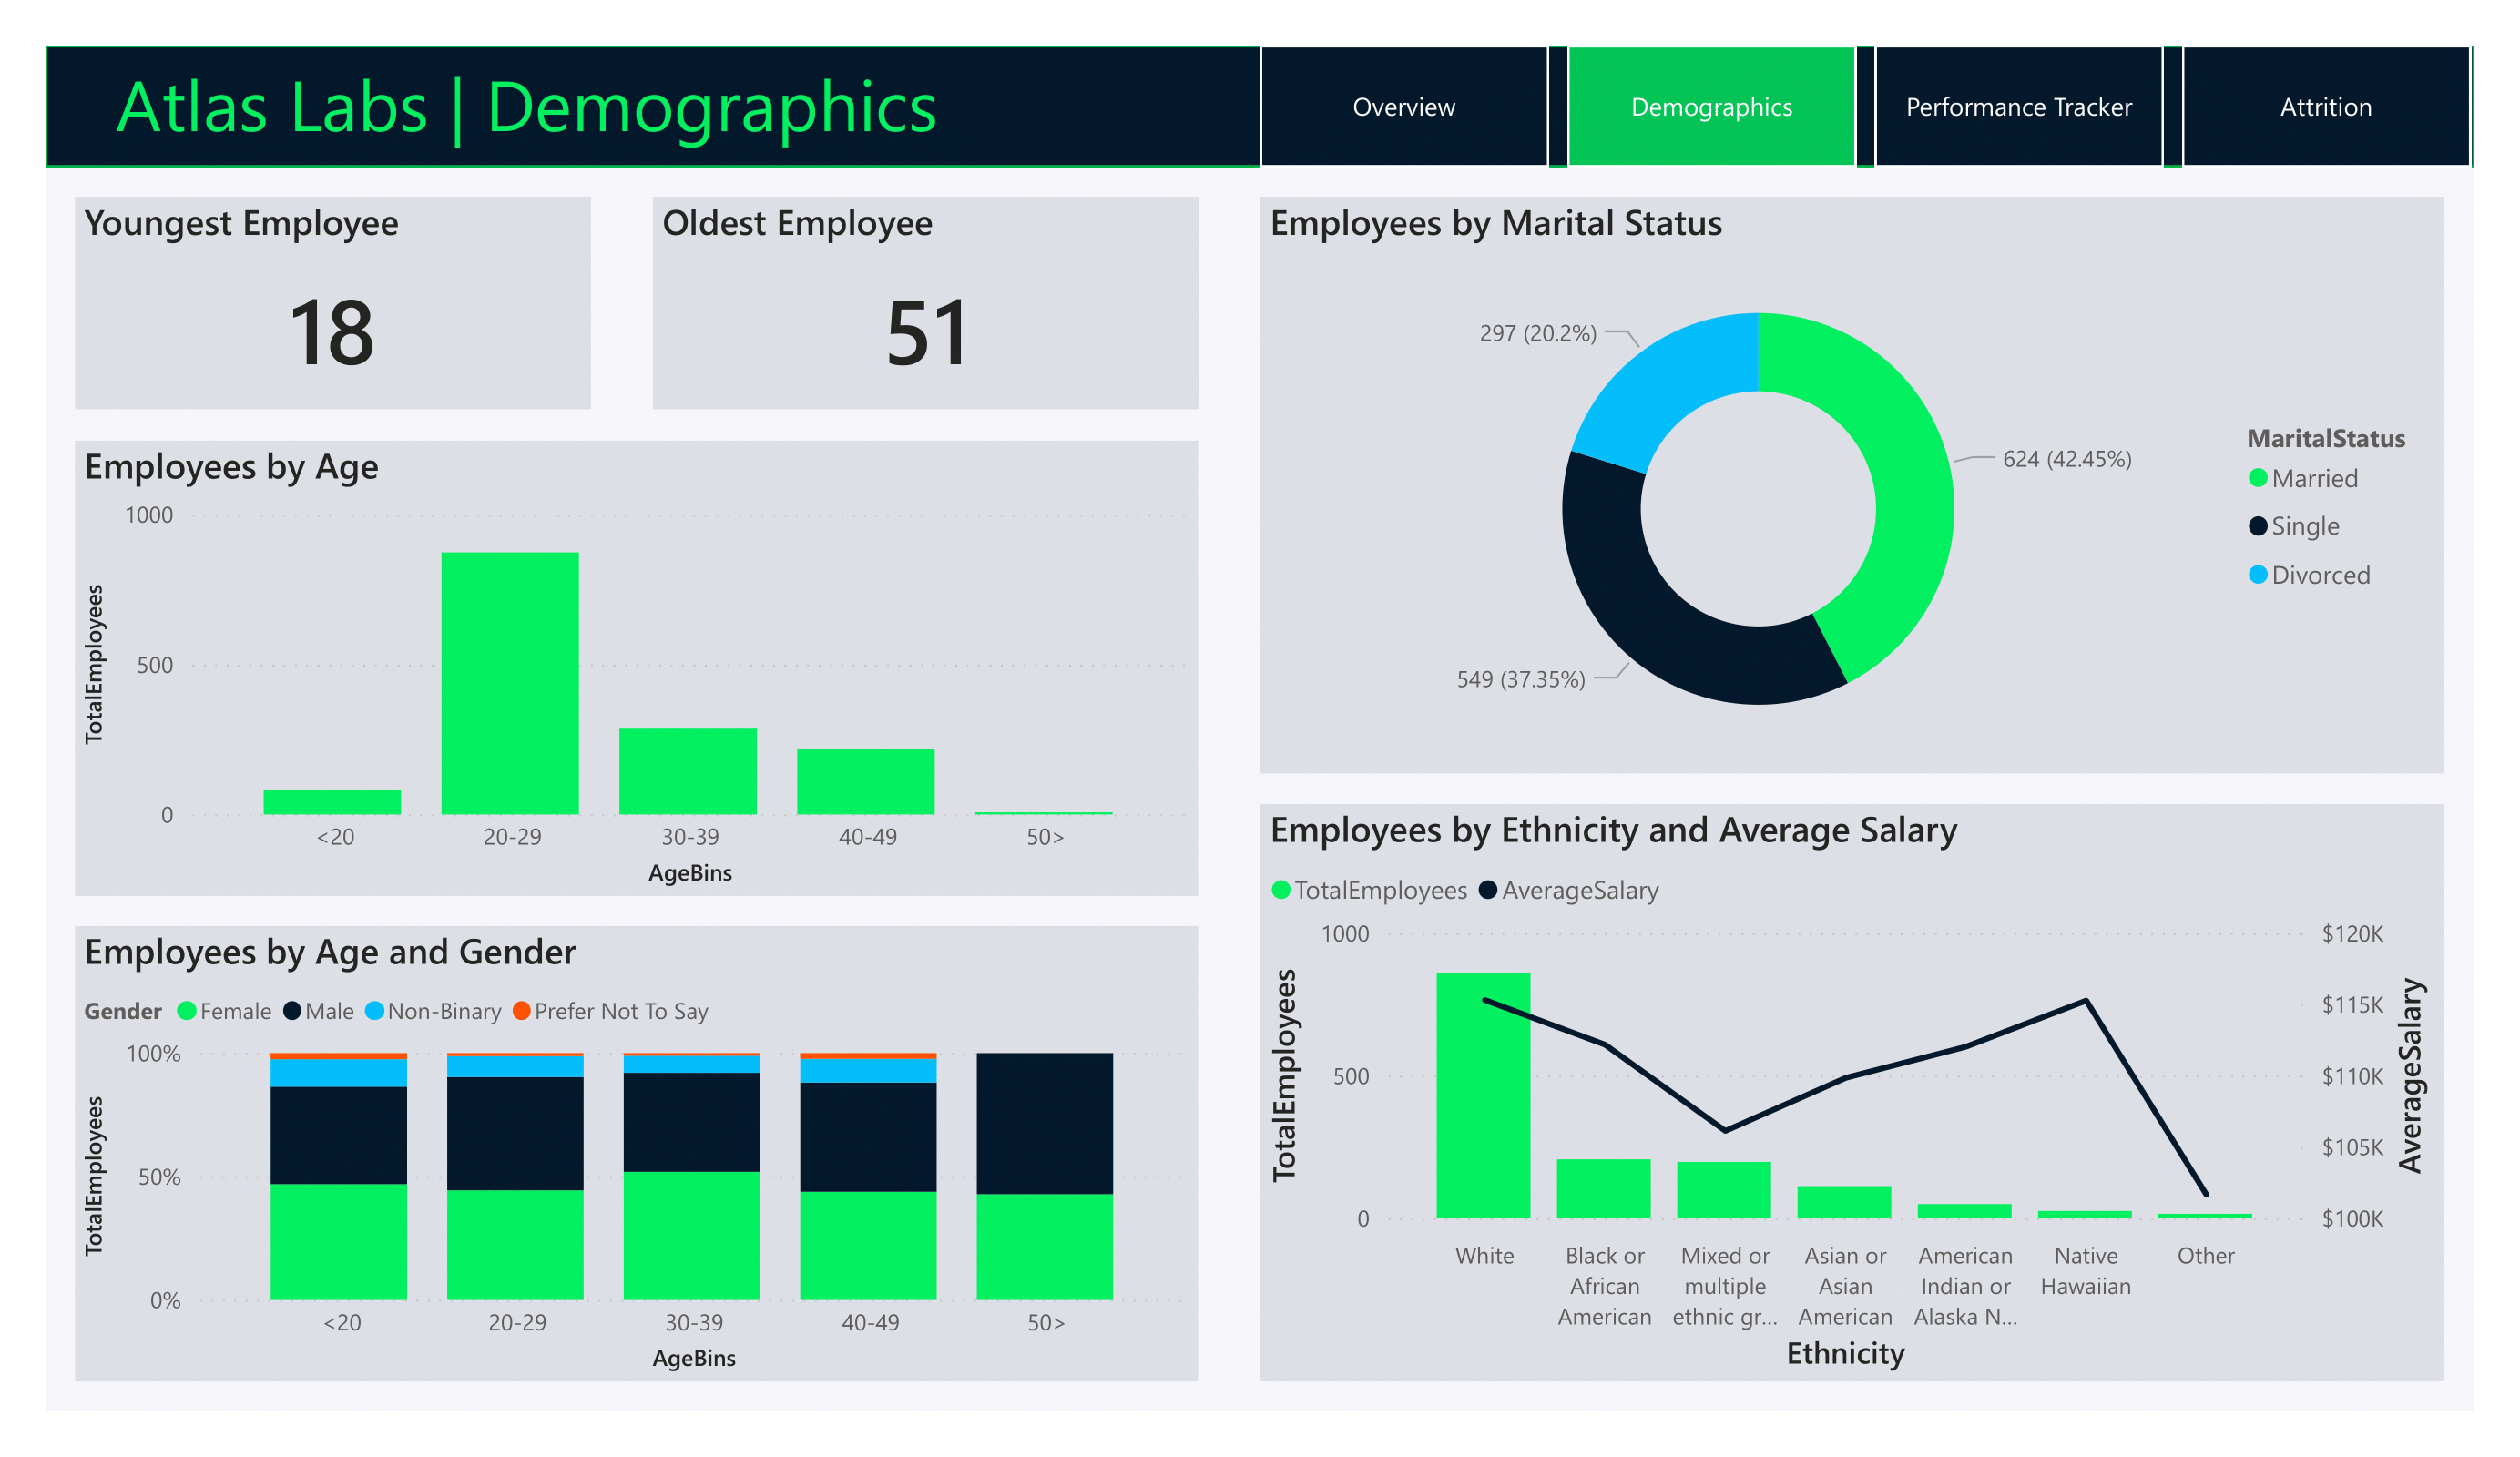

The page's visual inventory and layout, read from the dashboard file:
{"tool":"powerbi","page":{"name":"Demographics","canvas":[1280,720],"ordinal":1},"visuals":[{"type":"card","title":"Youngest Employee","fields":{"Values":["Sum(DimEmployee.Age)"]},"box":[16,80,272,112],"z":0},{"type":"card","title":"Oldest Employee","fields":{"Values":["Sum(DimEmployee.Age)"]},"box":[320,80,288,112],"z":1000},{"type":"columnChart","title":"Employees by Age","fields":{"Category":["DimEmployee.AgeBins"],"Y":["_Measures.TotalEmployees"]},"box":[16,208,592,240],"z":2000},{"type":"hundredPercentStackedColumnChart","title":"Employees by Age and Gender","fields":{"Category":["DimEmployee.AgeBins"],"Series":["DimEmployee.Gender"],"Y":["_Measures.TotalEmployees"]},"box":[16,464,592,240],"z":3000},{"type":"donutChart","title":"Employees by Marital Status","fields":{"Category":["DimEmployee.MaritalStatus"],"Y":["_Measures.TotalEmployees"]},"box":[640,80,624,304],"z":4000},{"type":"lineStackedColumnComboChart","title":"Employees by Ethnicity and Average Salary","fields":{"Category":["DimEmployee.Ethnicity"],"Y":["_Measures.TotalEmployees"],"Y2":["_Measures.AverageSalary"]},"box":[640,400,624,304],"z":5000},{"type":"shape","box":[0,0,1280,64],"z":6000},{"type":"textbox","box":[32,0,624,64],"z":7000},{"type":"pageNavigator","box":[640,0,640,64],"z":8000}]}

Visuals, with their boxes on the page's 1280x720 design canvas (x1, y1, x2, y2). These are canvas units, not pixel positions in the 2520x1457 screenshot, which may show the page scaled, cropped or inside an application window:
"Youngest Employee" card: [16, 80, 288, 192]
"Oldest Employee" card: [320, 80, 608, 192]
"Employees by Age" columnChart: [16, 208, 608, 448]
"Employees by Age and Gender" hundredPercentStackedColumnChart: [16, 464, 608, 704]
"Employees by Marital Status" donutChart: [640, 80, 1264, 384]
"Employees by Ethnicity and Average Salary" lineStackedColumnComboChart: [640, 400, 1264, 704]
shape: [0, 0, 1280, 64]
textbox: [32, 0, 656, 64]
pageNavigator: [640, 0, 1280, 64]
